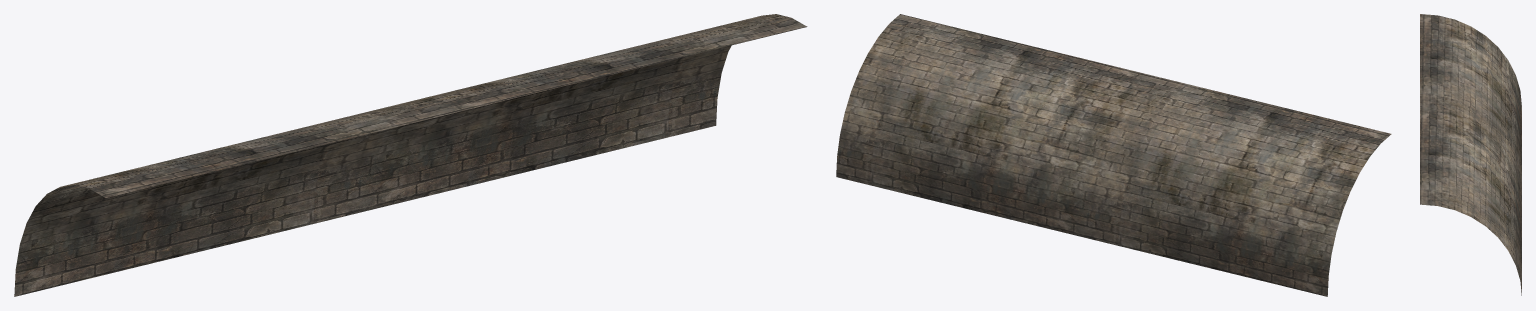
File: TEXS.fbx
3 renders of one model, left to right at view 1: azimuth 30°, elevation 25°; view 2: azimuth 150°, elevation 25°; view 3: azimuth 270°, elevation 25°, orthographic. The views are drawn at different scales.
Parts seen in each view (by area): view 1: Cylinder; view 2: Cylinder; view 3: Cylinder.
Boxes of the visible parts, x1=… form: Cylinder: x1=14, y1=14, x2=807, y2=296; Cylinder: x1=836, y1=14, x2=1391, y2=296; Cylinder: x1=1420, y1=14, x2=1521, y2=295.
Bounding box in the file's own units: 2168 × 490 × 490.
1 material, 1 textured.
